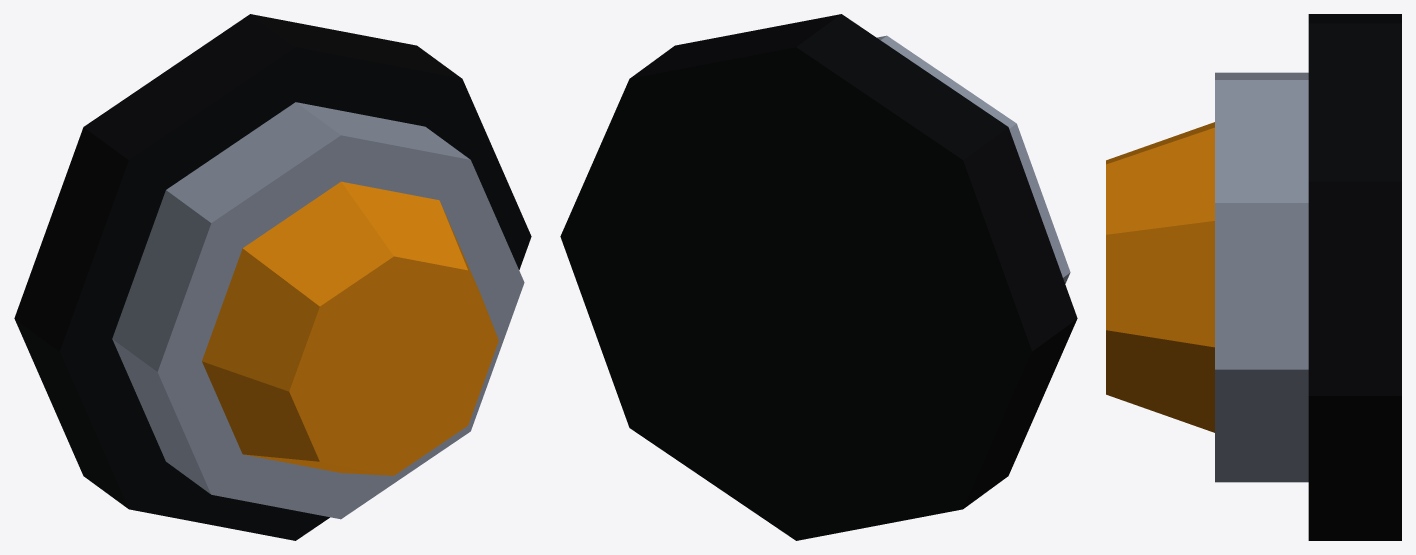
The model's file is SM_Indicator_Light_Yellow.glb.
3 views of the same model, side by side, from view 1: azimuth 30°, elevation 25°; view 2: azimuth 150°, elevation 25°; view 3: azimuth 270°, elevation 25° (orthographic). The views are drawn at different scales.
Parts seen in each view (by area): view 1: SM_Indicator_Light_Yellow; view 2: SM_Indicator_Light_Yellow; view 3: SM_Indicator_Light_Yellow.
Part boxes in pixels (x1=…): SM_Indicator_Light_Yellow: x1=14, y1=14, x2=531, y2=540; SM_Indicator_Light_Yellow: x1=560, y1=14, x2=1077, y2=540; SM_Indicator_Light_Yellow: x1=1106, y1=14, x2=1401, y2=540.
Size of the model in its own units: 0.18 by 0.18 by 0.095.
